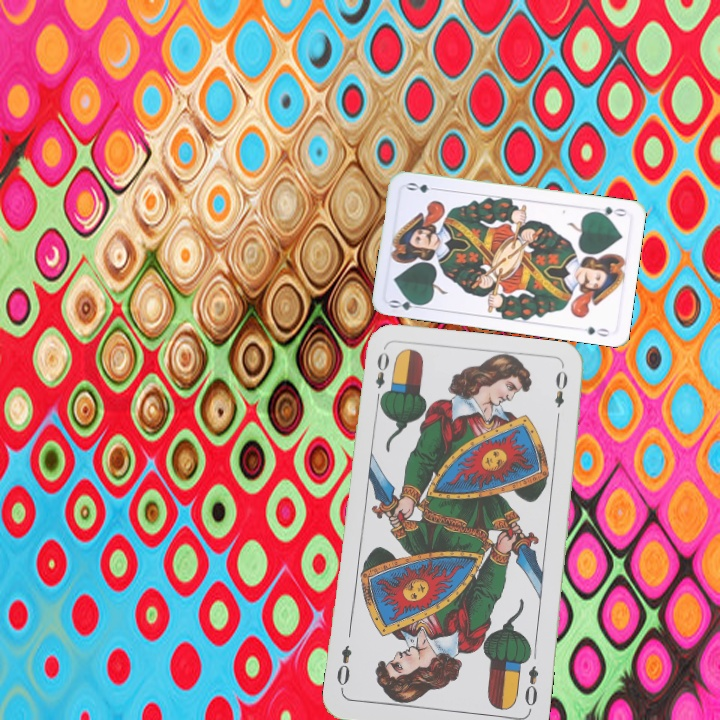EO: (371, 348, 392, 406), (521, 662, 542, 714)
GO: (386, 294, 427, 313), (589, 202, 630, 220)
